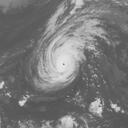cyclone: (30, 26, 80, 89)
